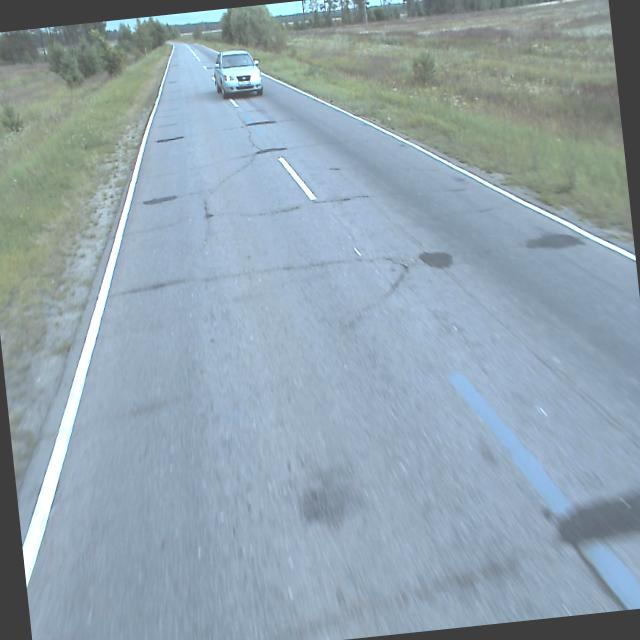road: (17, 42, 640, 640)
